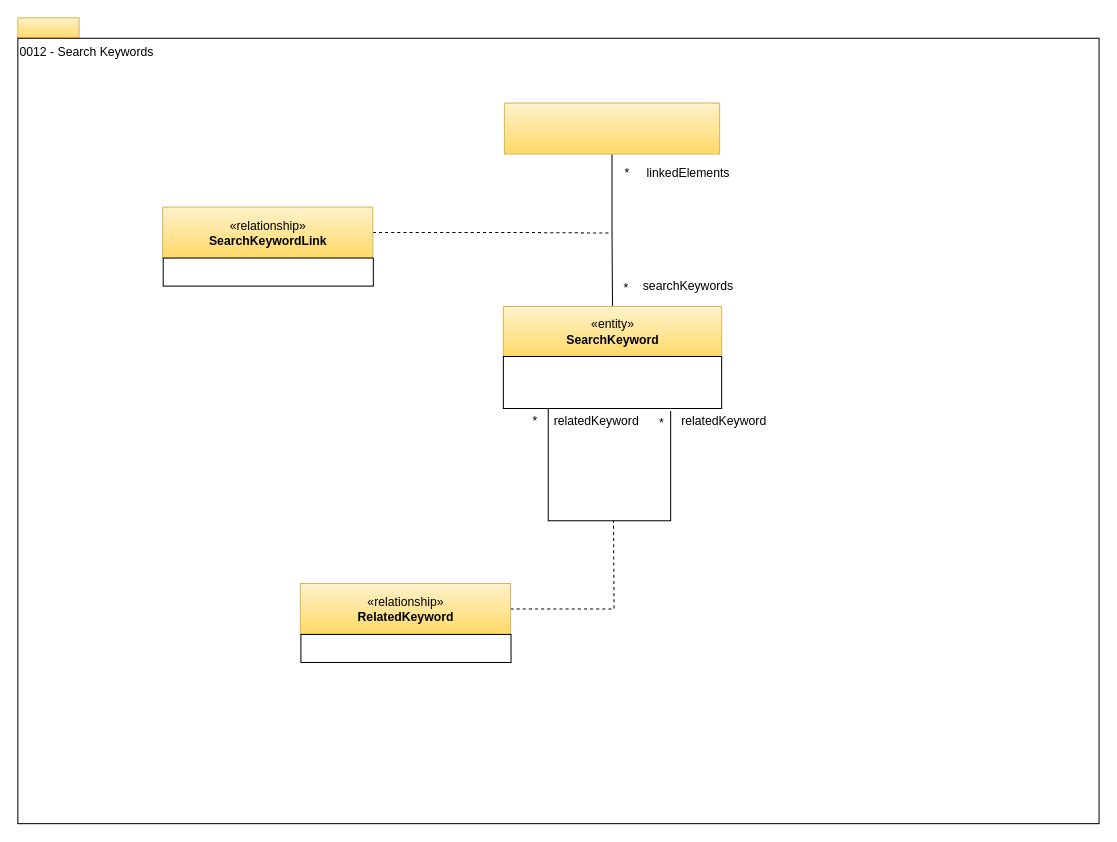
The diagram is 1117 pixels wide and 842 high, and some of its shapes have lost their labels. The centre of each missing label's shape, as x and y in pixels:
keyword : string description : string: the point at 612,382
«entity» Referenceable: the point at 611,128
